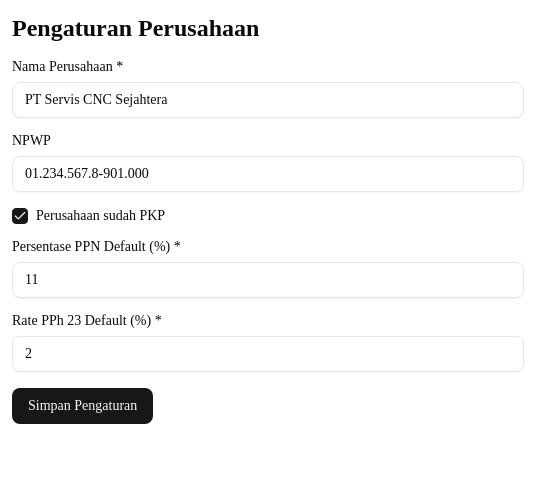
Test case: CompanySettingsPage › allows an owner to edit and submit PUT /settings/company
The width and height of the screenshot is (544, 480).
Replace the text in the field labelled "Nama Perusahaan *" with "PT Servis CNC Baru": x=268, y=100 [12, 82, 524, 118]
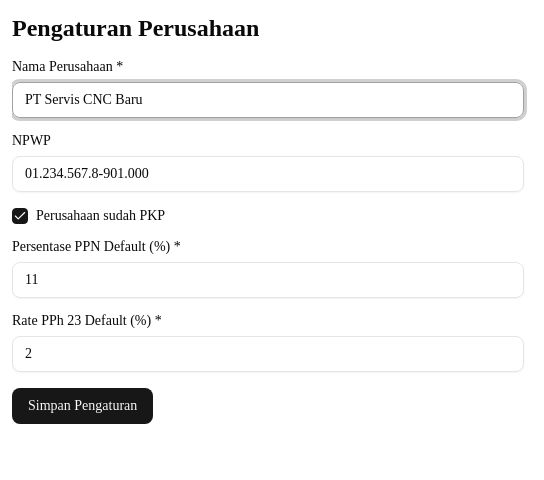
Click the button "Simpan Pengaturan": x=83, y=406 [12, 388, 153, 424]
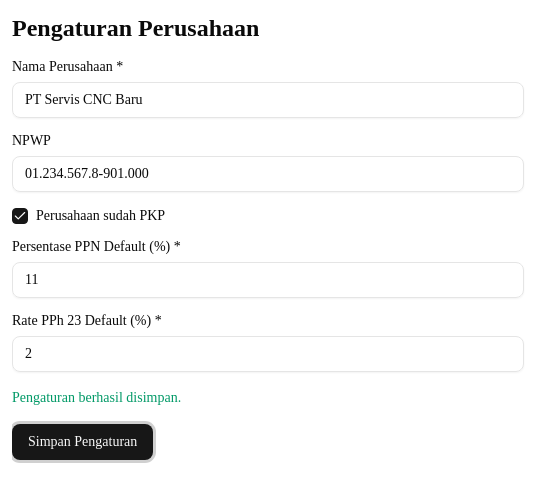
Now the text "Pengaturan berhasil disimpan." is shown, box [12, 390, 181, 405]
